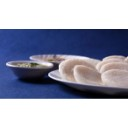idly: (59, 56, 94, 82), (103, 69, 128, 87), (100, 60, 128, 75)
